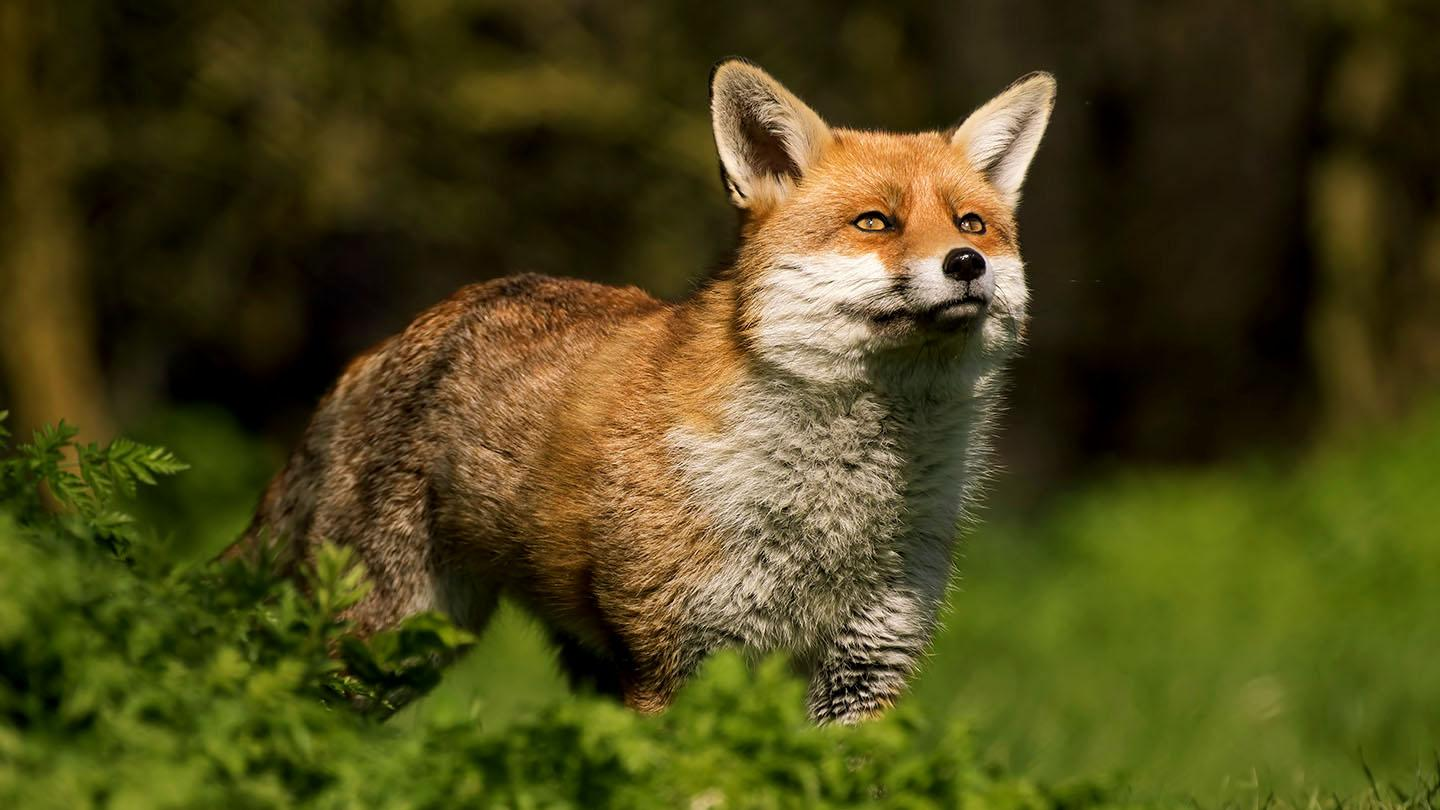fox: (246, 60, 1068, 741)
